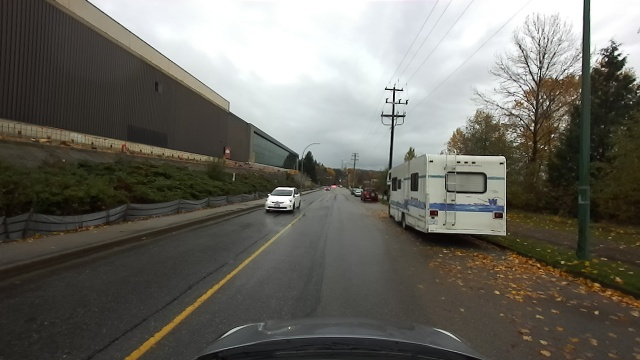car: (385, 147, 511, 247), (263, 184, 302, 214), (359, 187, 380, 202), (349, 186, 362, 197), (322, 185, 331, 192)
